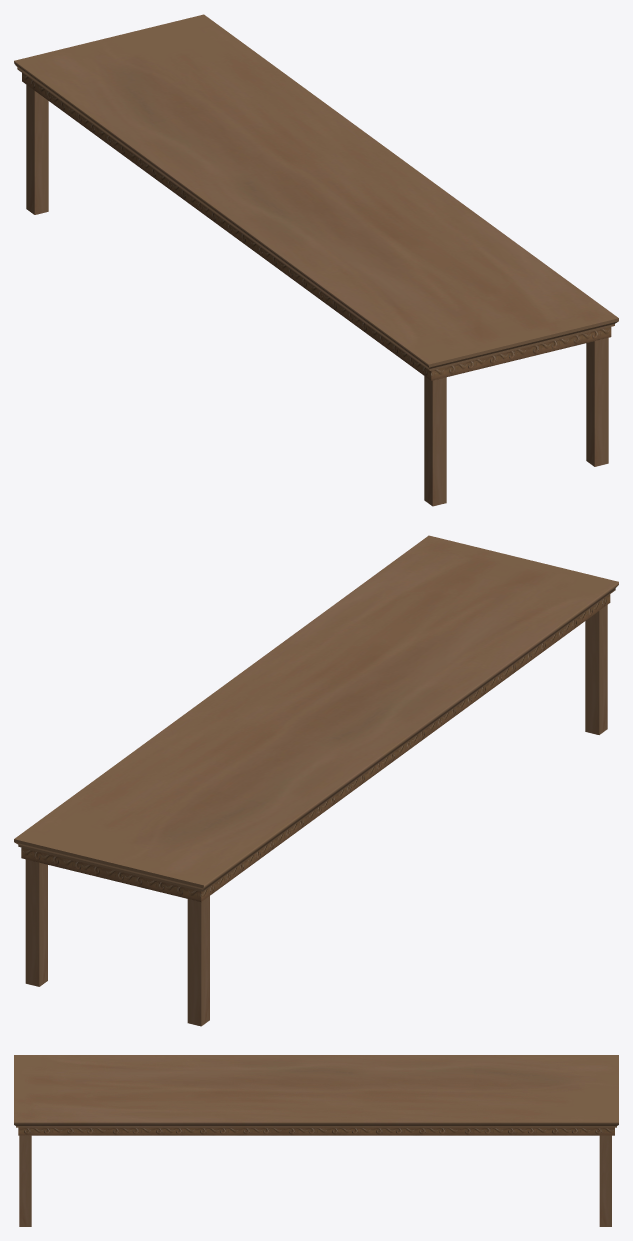
Rendered from table.fbx.
3 views of the same model, one above another, from view 1: azimuth 30°, elevation 25°; view 2: azimuth 150°, elevation 25°; view 3: azimuth 270°, elevation 25° (orthographic). The views are drawn at different scales.
Parts seen in each view (by area): view 1: polySurface532; view 2: polySurface532; view 3: polySurface532.
Boxes of the visible parts, x1,y1,x2,y2 form: polySurface532: (14,14,618,506); polySurface532: (14,535,618,1026); polySurface532: (14,1055,618,1226).
Size of the model in its own units: 150 by 110 by 566.
1 material, 1 textured.
